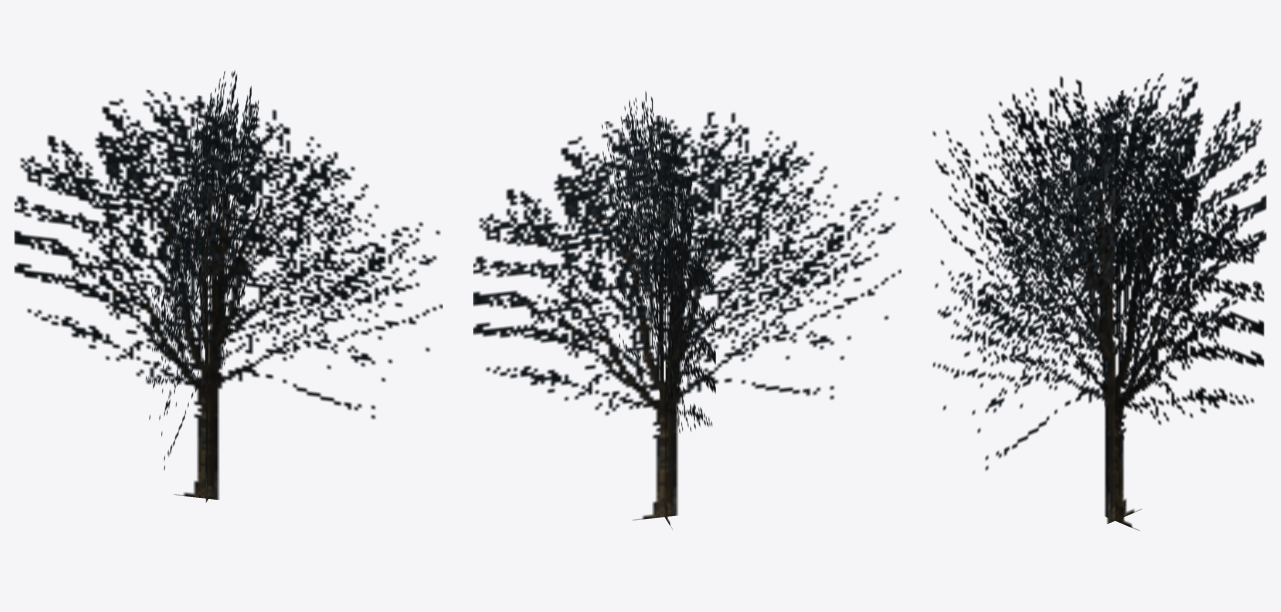
Rendered from tree006.glb.
3 renders of one model, left to right at view 1: azimuth 30°, elevation 25°; view 2: azimuth 150°, elevation 25°; view 3: azimuth 270°, elevation 25°, orthographic. The views are drawn at different scales.
Visible parts, largest first — view 1: tree006; view 2: tree006; view 3: tree006.
Part boxes in pixels (x1=…): tree006: x1=14, y1=70, x2=442, y2=502; tree006: x1=473, y1=91, x2=901, y2=529; tree006: x1=930, y1=73, x2=1266, y2=530.
Size of the model in its own units: 2.35 by 3.1 by 2.14.
Materials: 1 (1 with a texture image).
